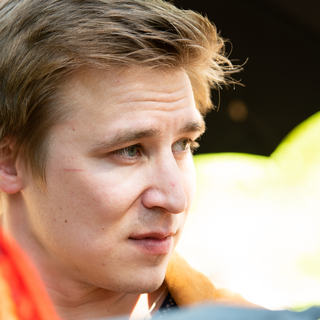eye: (104, 139, 152, 164), (169, 133, 193, 155)
